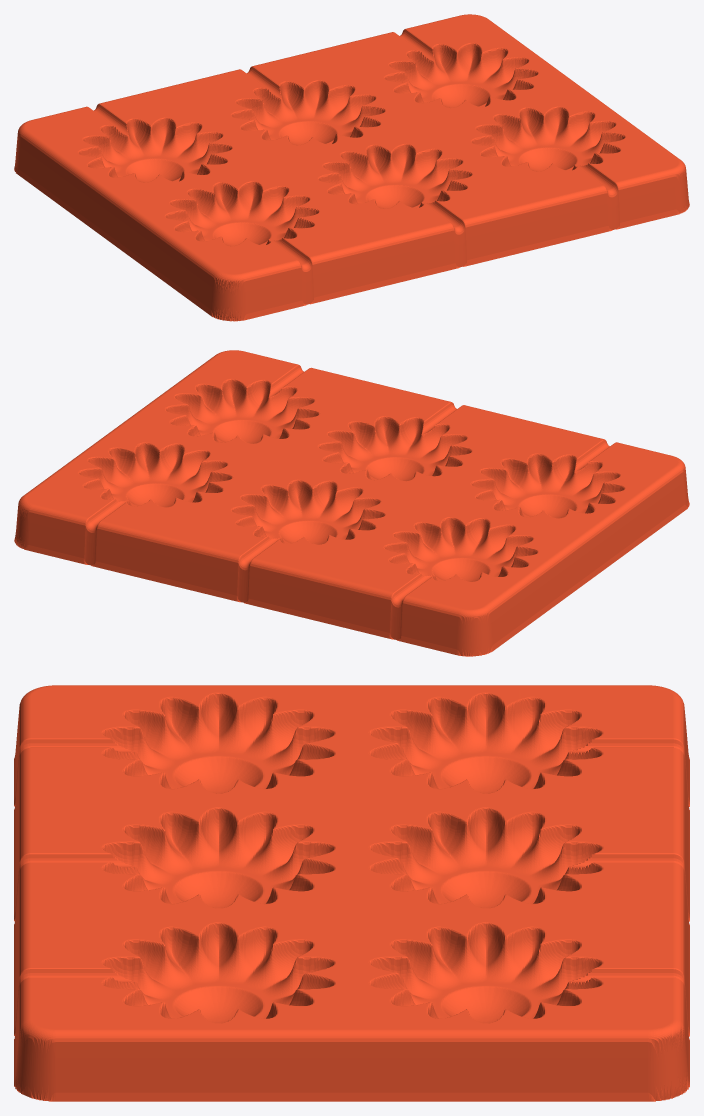
File: mold.glb
The picture shows the model from 3 angles, top to bottom: view 1: azimuth 30°, elevation 25°; view 2: azimuth 150°, elevation 25°; view 3: azimuth 270°, elevation 25°; orthographic projection. The views are drawn at different scales.
Visible parts, largest first — view 1: geometry_0; view 2: geometry_0; view 3: geometry_0.
Part boxes in pixels (left/top/right/bottom): geometry_0: left=14, top=14, right=689, bottom=321; geometry_0: left=14, top=350, right=689, bottom=656; geometry_0: left=14, top=685, right=689, bottom=1101.
Bounding box in the file's own units: 0.1824 × 0.0155 × 0.1459.
